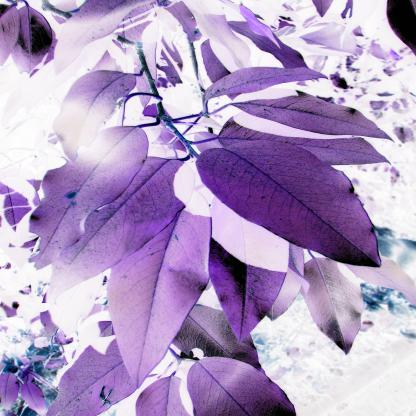cherry leaf: (196, 134, 388, 274), (111, 180, 214, 387), (26, 125, 149, 269), (227, 84, 405, 156), (49, 66, 163, 167), (180, 356, 298, 416), (198, 66, 357, 108)
